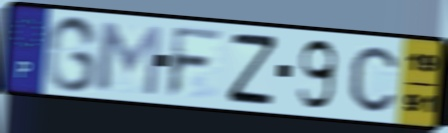9: (296, 37, 339, 111)
C: (348, 44, 400, 115)
F: (164, 24, 226, 101)
G: (42, 13, 101, 94)
M: (96, 19, 165, 99)
Z: (226, 31, 279, 107)
